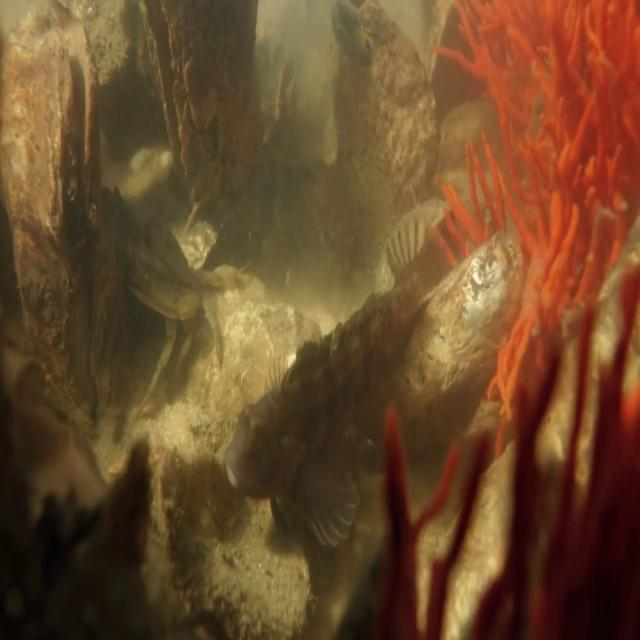Oyster-Indeterminate: (370, 223, 524, 458), (328, 1, 440, 238)
Oyster-Open: (1, 0, 119, 422), (133, 2, 268, 246)
